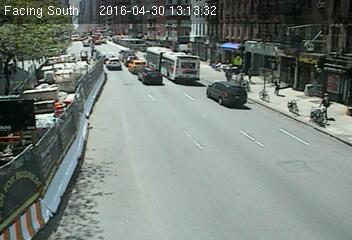neg: (198, 49, 216, 73), (289, 93, 307, 117), (144, 58, 162, 81), (38, 37, 55, 60), (81, 100, 97, 121), (49, 112, 62, 131), (155, 27, 168, 45), (78, 47, 90, 64), (122, 32, 134, 46)
pos: (316, 90, 337, 119), (271, 74, 288, 97), (223, 67, 237, 85)
